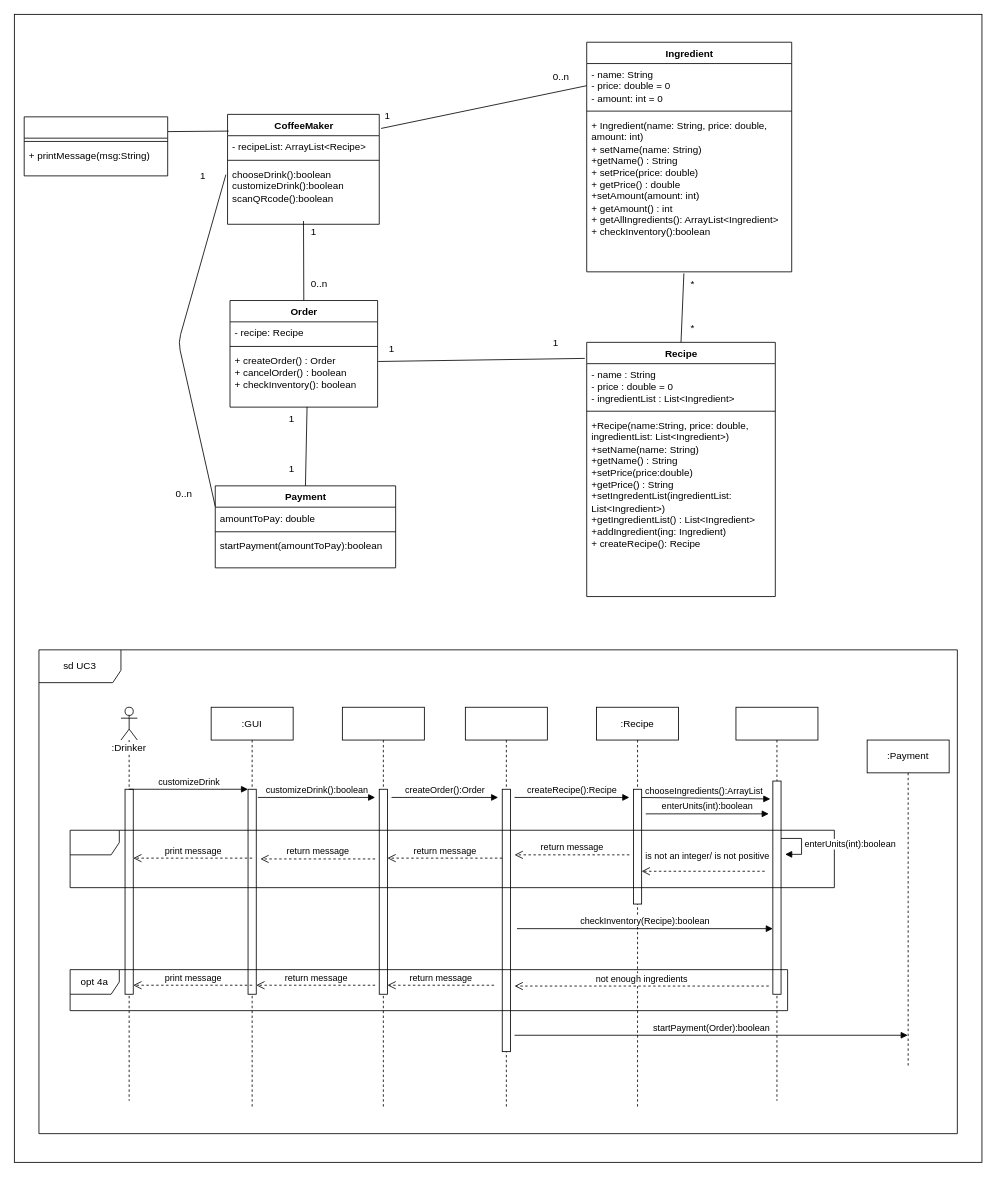
The diagram is 996 pixels wide and 1177 high, and some of its shapes have lost their labels. Here are the shapes that lost their labels. From the top down, the box of each, then its label:
(23, 116, 168, 176): GUI
(69, 829, 834, 888): opt 2a
(342, 706, 424, 1109): :CoffeeMaker
(465, 706, 547, 1109): :Order
(735, 706, 818, 1101): :Ingredient
